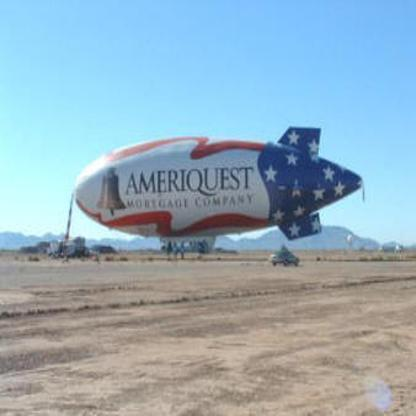Airship: (69, 126, 368, 249)
